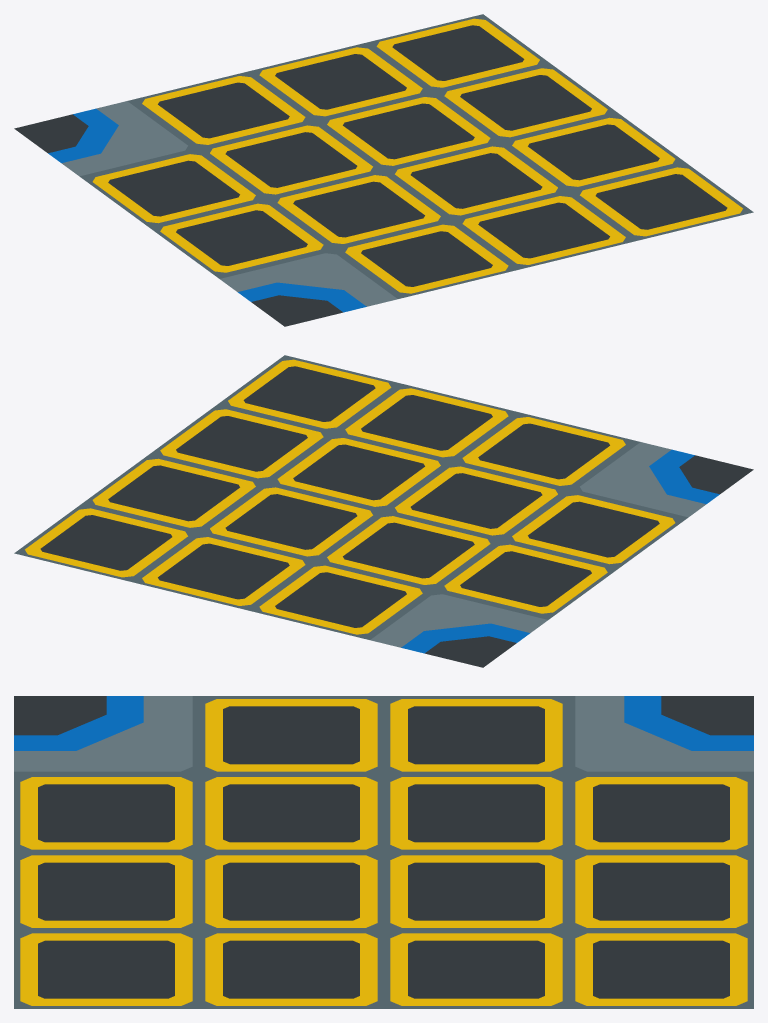
File: Floor_type_C_009.glb
3 views of the same model, one above another, from view 1: azimuth 30°, elevation 25°; view 2: azimuth 150°, elevation 25°; view 3: azimuth 270°, elevation 25° (orthographic). The views are drawn at different scales.
Visible parts, largest first — view 1: Floor_type_C_009; view 2: Floor_type_C_009; view 3: Floor_type_C_009.
Part boxes in pixels (bbox=[...]): Floor_type_C_009: bbox=[14, 14, 753, 326]; Floor_type_C_009: bbox=[14, 355, 753, 667]; Floor_type_C_009: bbox=[14, 696, 753, 1008].
Size of the model in its own units: 4 by 3.88e-23 by 4.
Materials: 2 (2 with a texture image).
